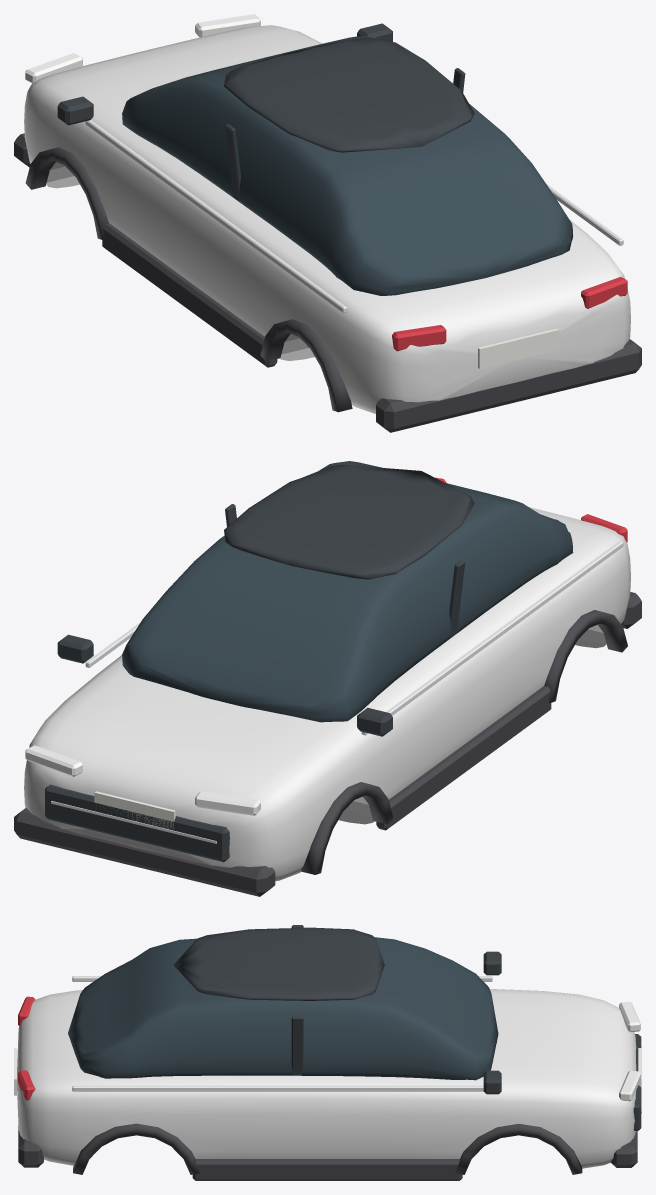
The model's file is crossover.glb.
The picture shows the model from 3 angles, top to bottom: view 1: azimuth 30°, elevation 25°; view 2: azimuth 150°, elevation 25°; view 3: azimuth 270°, elevation 25°; orthographic projection. The views are drawn at different scales.
Visible parts, largest first — view 1: paint_body, glass_house, roof, bumper_r, rubber_sill, rubber_arch.001, chrome_beltline, rubber_arch, plate.001, tail_lamp, head_lamp.001, tail_lamp.001 (+4 smaller); view 2: paint_body, glass_house, roof, bumper_f, black_grille, rubber_sill, rubber_arch, chrome_beltline, rubber_arch.001, plate, head_lamp, head_lamp.001 (+3 smaller); view 3: paint_body, glass_house, roof, rubber_sill.001, chrome_beltline.001, rubber_arch.003, rubber_arch.002, black_bpillar.001, bumper_r, bumper_f, black_grille, head_lamp.001 (+3 smaller).
Part boxes in pixels (x1,y1,x2,y2): paint_body: [24, 25, 630, 413]; glass_house: [122, 36, 572, 295]; roof: [224, 37, 474, 152]; bumper_r: [376, 339, 641, 432]; rubber_sill: [102, 223, 277, 367]; rubber_arch.001: [260, 319, 352, 412]; chrome_beltline: [85, 120, 347, 313]; rubber_arch: [25, 147, 108, 240]; plate.001: [478, 328, 559, 368]; tail_lamp: [392, 325, 446, 351]; head_lamp.001: [195, 14, 260, 37]; tail_lamp.001: [581, 276, 627, 308]; paint_body: [24, 507, 630, 881]; glass_house: [122, 461, 573, 722]; roof: [224, 465, 474, 579]; bumper_f: [14, 808, 275, 896]; black_grille: [45, 784, 229, 862]; rubber_sill: [376, 686, 551, 830]; rubber_arch: [301, 782, 393, 874]; chrome_beltline: [361, 541, 623, 735]; rubber_arch.001: [544, 610, 627, 702]; plate: [94, 791, 175, 829]; head_lamp: [195, 791, 260, 815]; head_lamp.001: [25, 745, 82, 776]; paint_body: [17, 989, 636, 1168]; glass_house: [68, 937, 498, 1080]; roof: [173, 927, 384, 1000]; rubber_sill.001: [192, 1159, 462, 1180]; chrome_beltline.001: [72, 1085, 483, 1091]; rubber_arch.003: [73, 1123, 199, 1174]; rubber_arch.002: [455, 1123, 582, 1174]; black_bpillar.001: [291, 1016, 303, 1074]; bumper_r: [18, 1126, 43, 1167]; bumper_f: [610, 1131, 637, 1167]; black_grille: [633, 1034, 641, 1130]; head_lamp.001: [619, 1070, 640, 1101].
Bounding box in the file's own units: 2.07 × 1.22 × 4.21.
